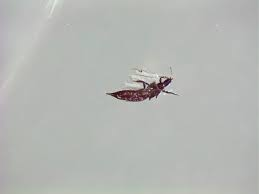Phlaeothripidae: (105, 64, 183, 105)
